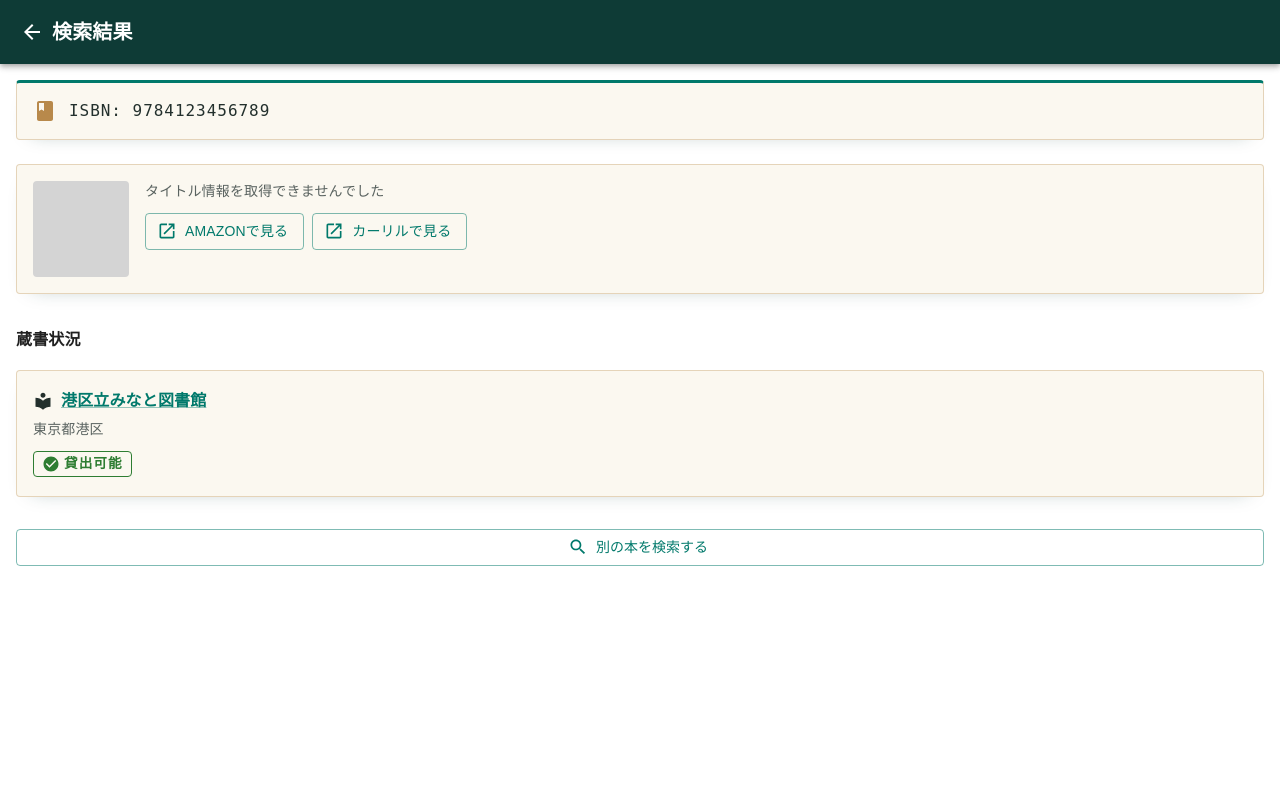
Test case: BookSearchResultPage › 直アクセス（履歴なし・source なし）でも「別の本を検索する」でISBN入力画面へ遷移する
This screenshot has width=1280, height=800.
Click the button "別の本を検索する". click: (640, 547)
box: left=16, top=529, right=1264, bottom=566
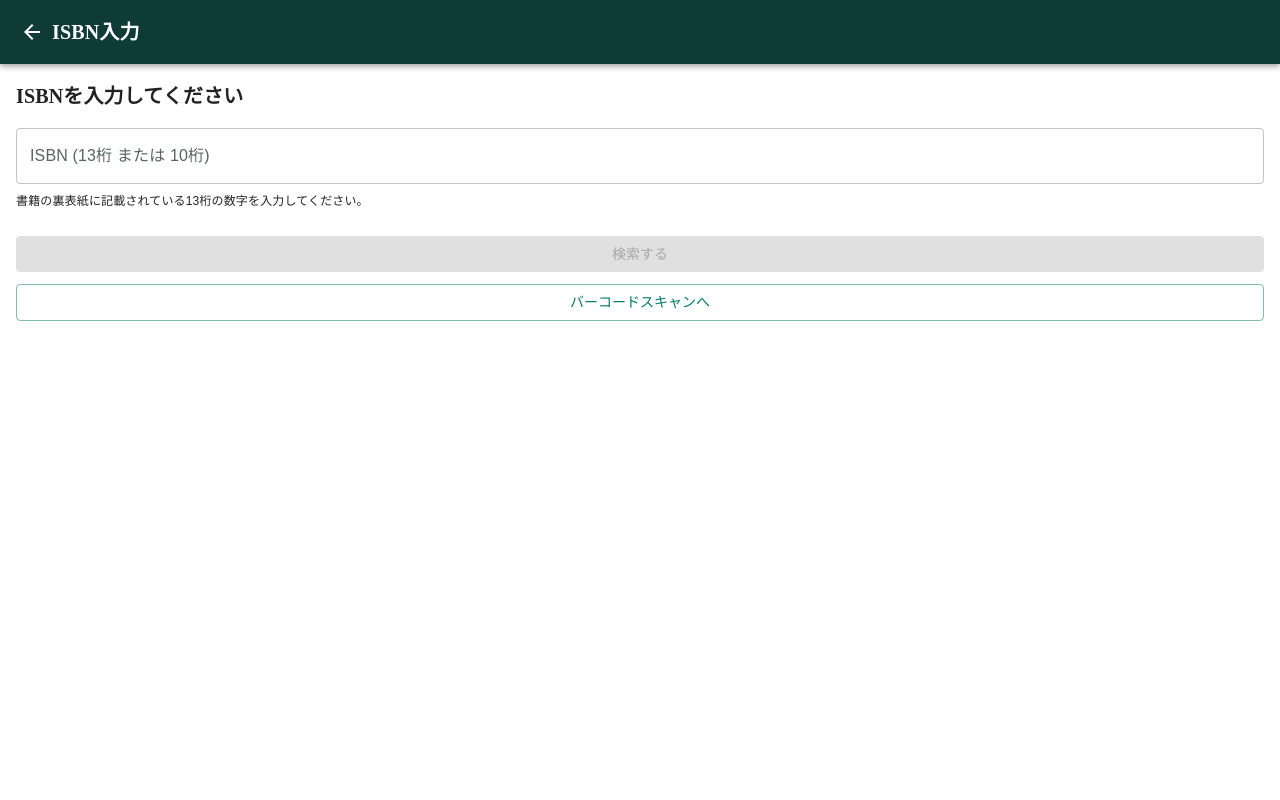
Expected: the text "ISBN入力" is shown, left=52, top=21, right=140, bottom=43
